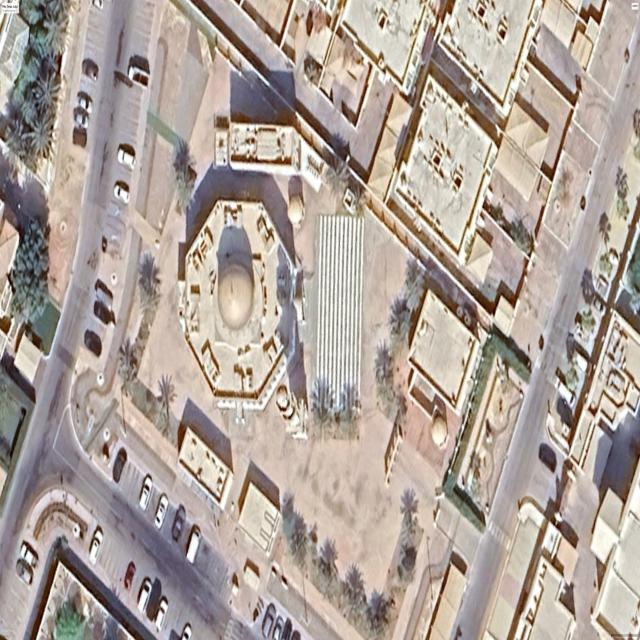mosque: (178, 199, 295, 424)
